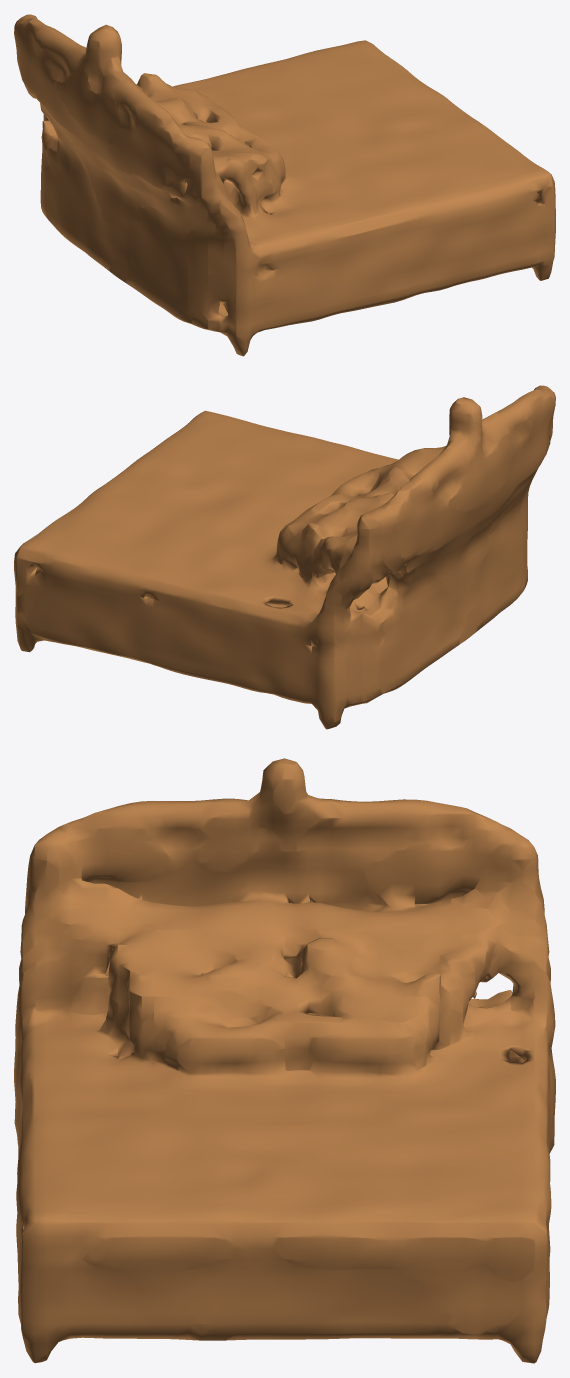
The model's file is bed_1_4.obj.
3 renders of one model, top to bottom at view 1: azimuth 30°, elevation 25°; view 2: azimuth 150°, elevation 25°; view 3: azimuth 270°, elevation 25°, orthographic. The views are drawn at different scales.
Bounding box in the file's own units: 0.7934 × 0.5402 × 0.7123.
